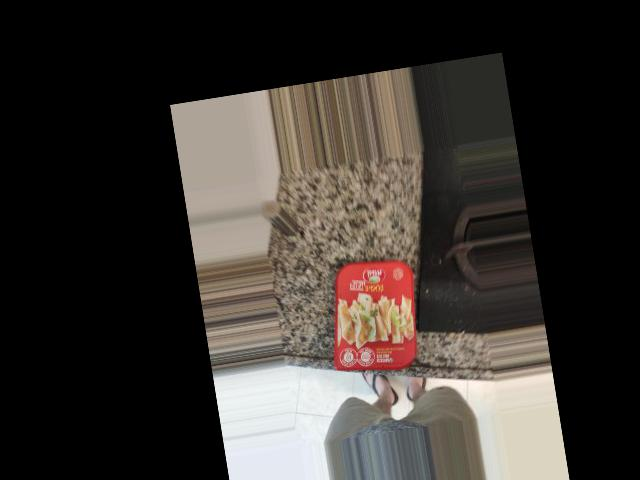cheese: (326, 212, 433, 333)
